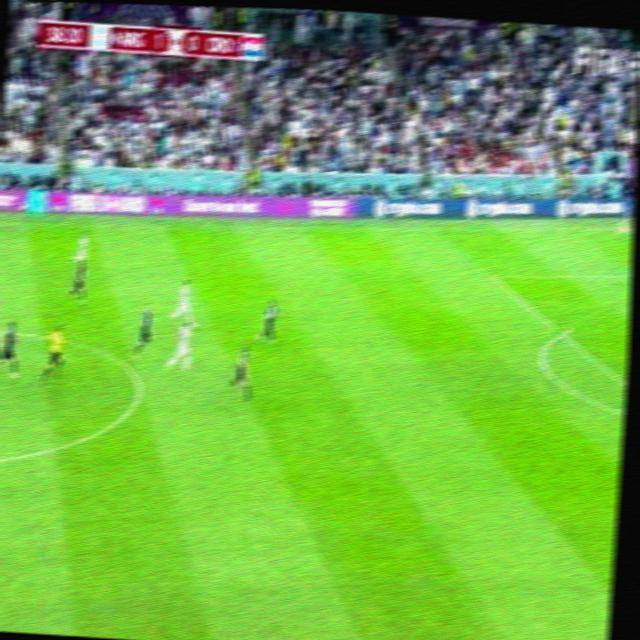bigarea_top_inner: (478, 263, 499, 286)
corner: (615, 219, 633, 234)
top_arc_area_intersection: (552, 322, 573, 345)
